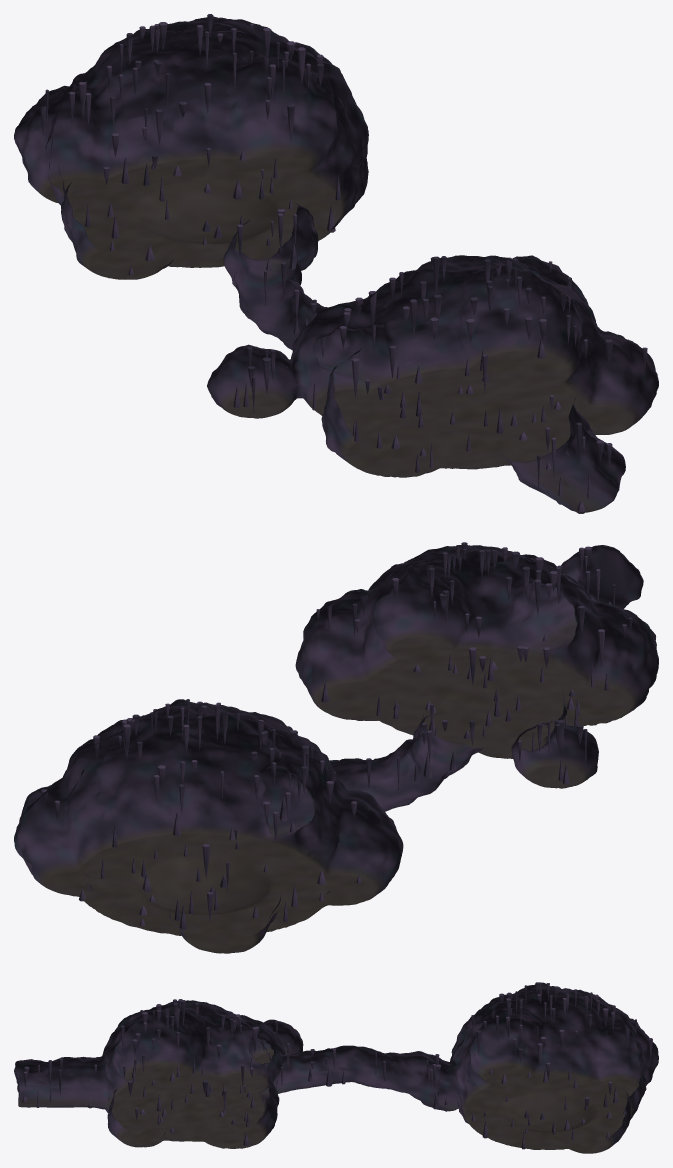
The model's file is cave.glb.
3 views of the same model, one above another, from view 1: azimuth 30°, elevation 25°; view 2: azimuth 150°, elevation 25°; view 3: azimuth 270°, elevation 25° (orthographic). The views are drawn at different scales.
Visible parts, largest first — view 1: cave_shell, cave_spikes; view 2: cave_shell, cave_spikes; view 3: cave_shell, cave_spikes.
Boxes of the visible parts, x1,y1,x2,y2 form: cave_shell: [14, 16, 658, 512]; cave_spikes: [40, 14, 647, 513]; cave_shell: [14, 545, 658, 953]; cave_spikes: [41, 542, 632, 929]; cave_shell: [14, 982, 658, 1153]; cave_spikes: [22, 982, 652, 1149].
Size of the model in its own units: 27.35 by 13.94 by 63.48.
